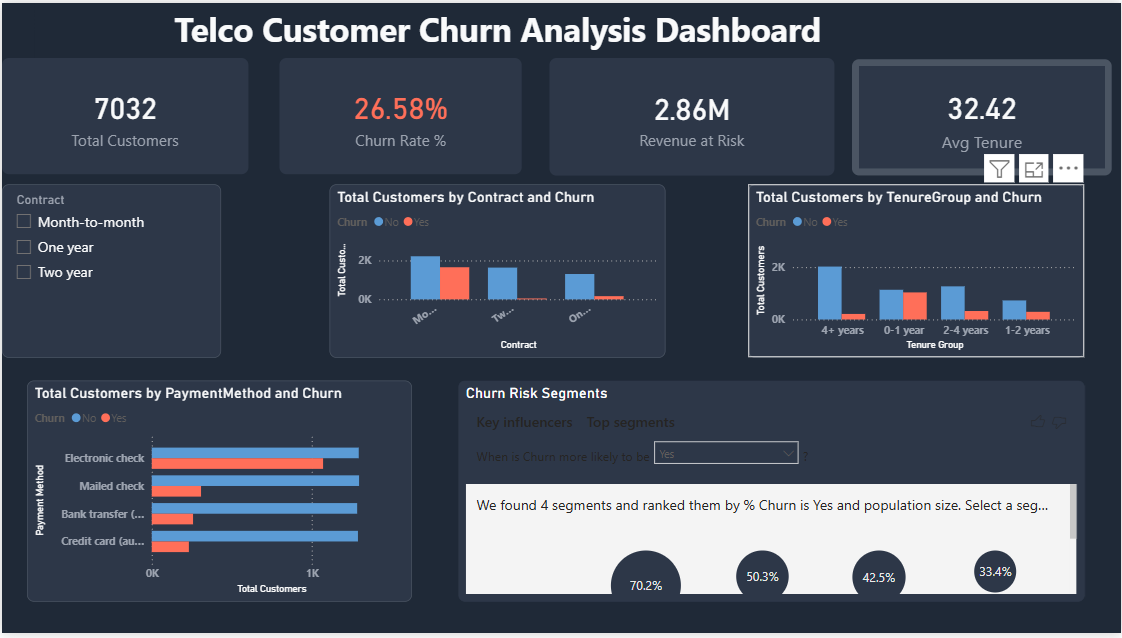

What the dashboard file says about the page in this screenshot:
{"tool":"powerbi","page":{"name":"Page 1","canvas":[1280,720],"ordinal":0},"visuals":[{"type":"card","fields":{"Values":["telco_churn_cleaned.Total Customers"]},"box":[0,62.9,281.4,132.9],"z":0},{"type":"card","fields":{"Values":["telco_churn_cleaned.Churn Rate %"]},"box":[317.1,62.9,277.1,132.9],"z":1000},{"type":"card","fields":{"Values":["telco_churn_cleaned.Revenue at Risk"]},"box":[625.7,62.9,325.7,134.3],"z":2000},{"type":"card","fields":{"Values":["telco_churn_cleaned.Avg Tenure"]},"box":[971.4,64.3,297.1,132.9],"z":3000},{"type":"clusteredColumnChart","fields":{"Category":["telco_churn_cleaned.Contract"],"Y":["telco_churn_cleaned.Total Customers"],"Series":["telco_churn_cleaned.Churn"]},"box":[374.3,207.1,384.3,198.6],"z":4000},{"type":"clusteredColumnChart","fields":{"Category":["telco_churn_cleaned.TenureGroup"],"Y":["telco_churn_cleaned.Total Customers"],"Series":["telco_churn_cleaned.Churn"]},"box":[852.9,207.1,384.3,198.6],"z":5000},{"type":"clusteredBarChart","fields":{"Category":["telco_churn_cleaned.PaymentMethod"],"Y":["telco_churn_cleaned.Total Customers"],"Series":["telco_churn_cleaned.Churn"]},"box":[28.6,431.4,440,252.9],"z":6000},{"type":"textbox","box":[37.1,0,1058.8,62.4],"z":7000},{"type":"slicer","fields":{"Values":["telco_churn_cleaned.Contract"]},"box":[0,207.1,250,198.6],"z":8000},{"type":"keyDriversVisual","title":"Churn Risk Segments","fields":{"Target":["telco_churn_cleaned.Churn"],"ExplainBy":["telco_churn_cleaned.Contract","telco_churn_cleaned.TenureGroup","telco_churn_cleaned.PaymentMethod","telco_churn_cleaned.InternetService"]},"box":[521.4,431.4,715.7,252.9],"z":8001}]}

Visuals, with their boxes in screenshot pixels (x1, y1, x2, y2), scaled from the page's 1280x720 canvas onto the 1122x638 screenshot:
card - telco_churn_cleaned.Total Customers: [0,56,247,174]
card - telco_churn_cleaned.Churn Rate %: [278,56,521,174]
card - telco_churn_cleaned.Revenue at Risk: [548,56,834,175]
card - telco_churn_cleaned.Avg Tenure: [851,57,1112,175]
clusteredColumnChart - telco_churn_cleaned.Contract x telco_churn_cleaned.Total Customers: [328,184,665,359]
clusteredColumnChart - telco_churn_cleaned.TenureGroup x telco_churn_cleaned.Total Customers: [748,184,1084,359]
clusteredBarChart - telco_churn_cleaned.PaymentMethod x telco_churn_cleaned.Total Customers: [25,382,411,606]
textbox: [33,0,961,55]
slicer - telco_churn_cleaned.Contract: [0,184,219,359]
"Churn Risk Segments" keyDriversVisual: [457,382,1084,606]
